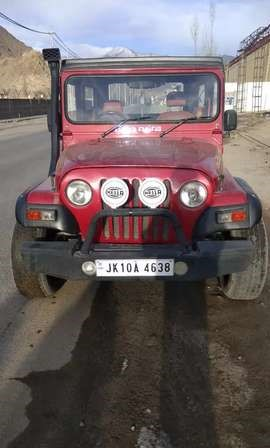JK10A4638: (96, 259, 173, 276)
